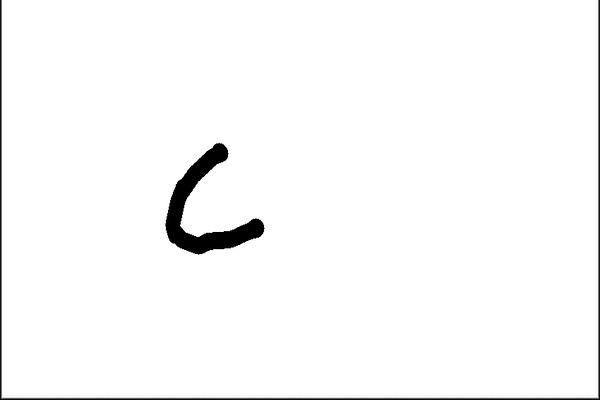C: (160, 137, 266, 258)
